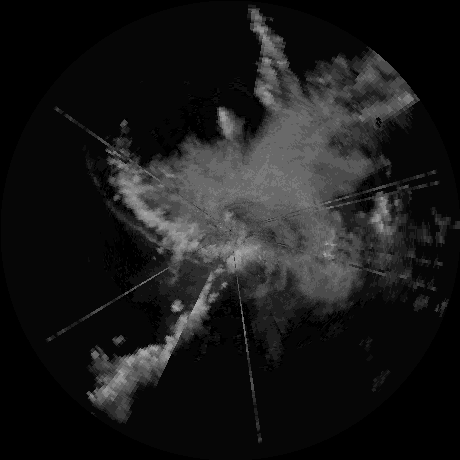frontgust: (91, 174, 162, 245), (186, 255, 215, 270)
